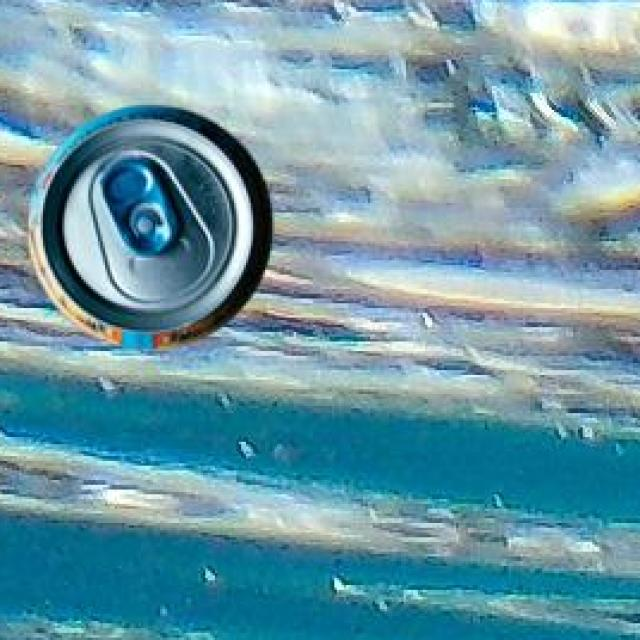logam: (32, 101, 276, 345)
